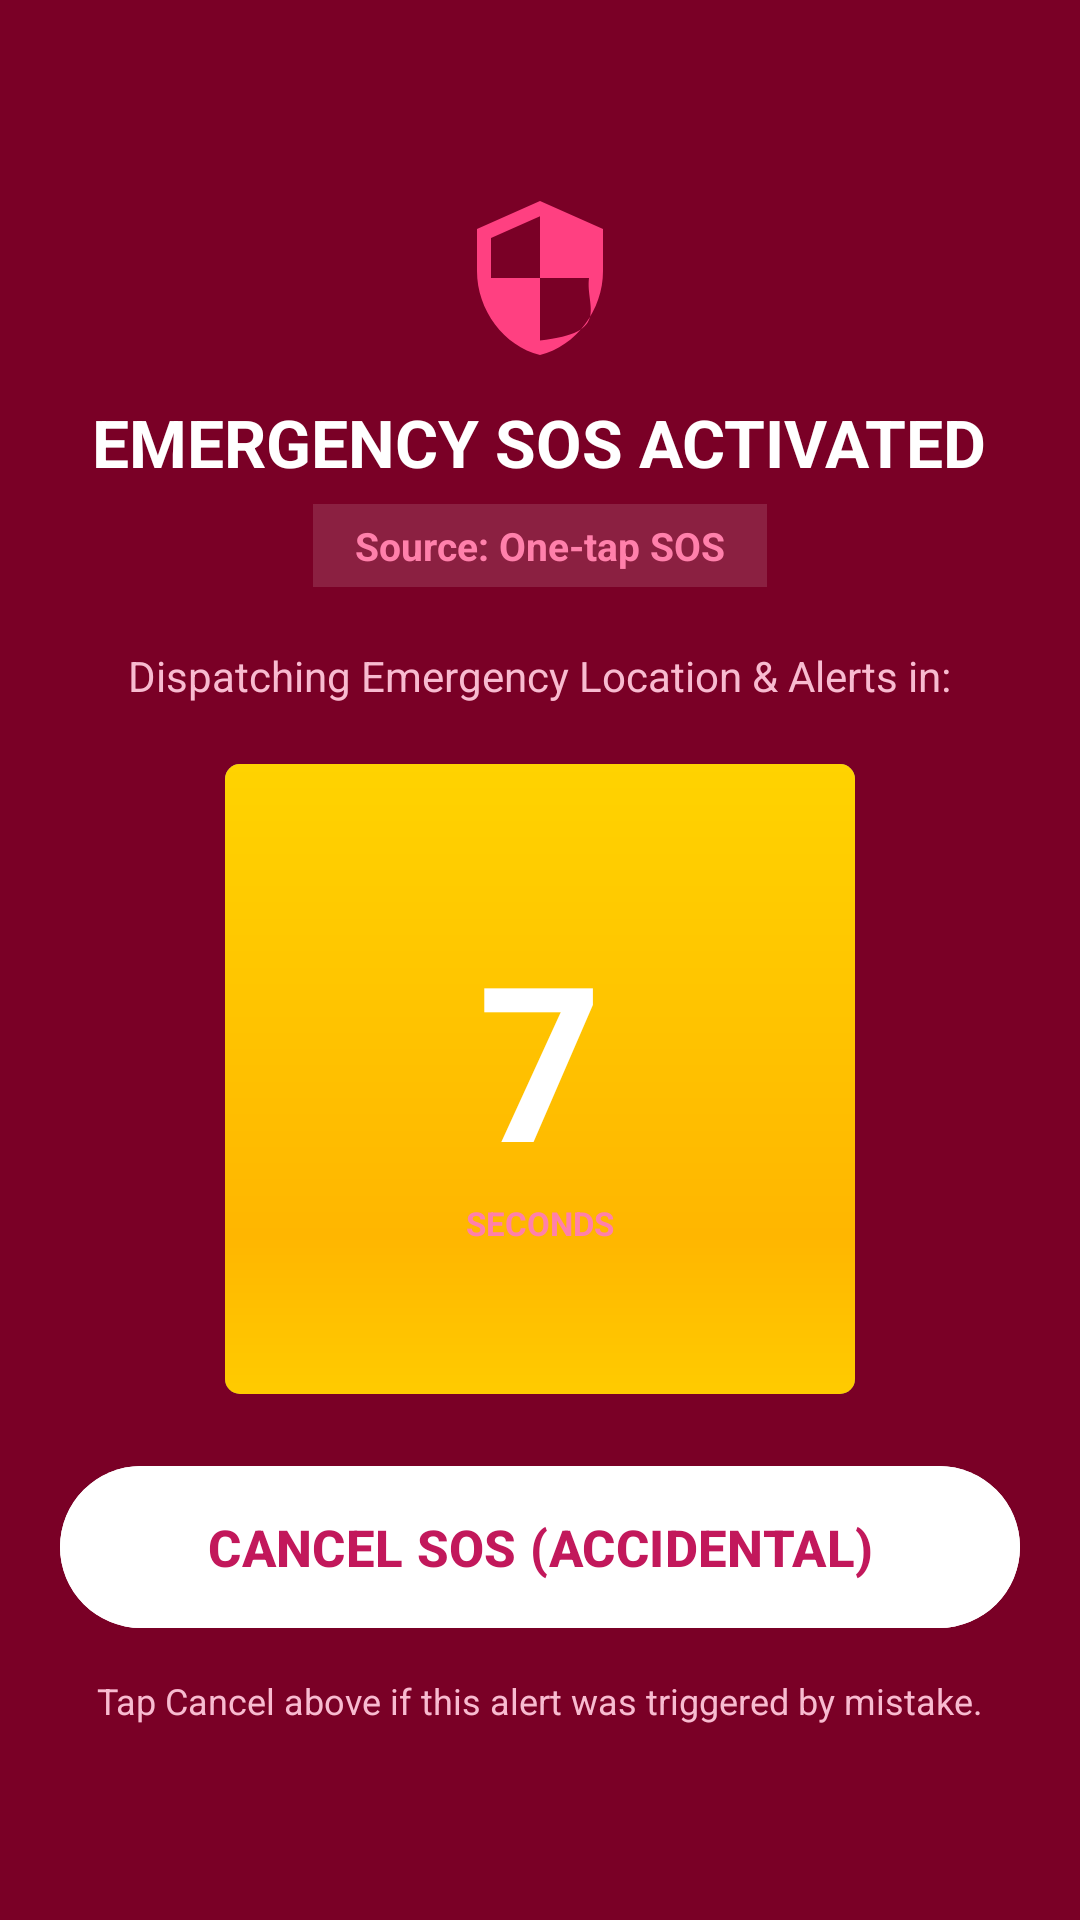

Screen size 1080*1920. Icon name, then its box in pixels as bbox=[x1, y1, x2, y2]:
shield: bbox=[477, 201, 603, 355]
